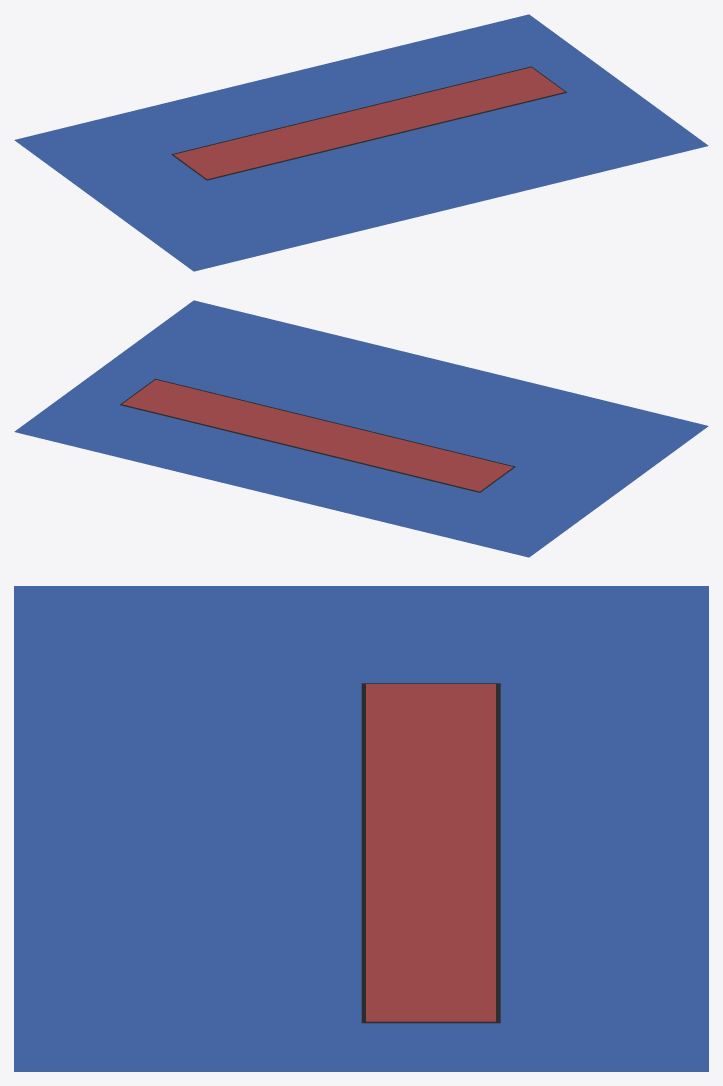
File: LobbyFloor.fbx
3 renders of one model, top to bottom at view 1: azimuth 30°, elevation 25°; view 2: azimuth 150°, elevation 25°; view 3: azimuth 270°, elevation 25°, orthographic. The views are drawn at different scales.
Visible parts, largest first — view 1: Floor1; view 2: Floor1; view 3: Floor1.
Boxes of the visible parts, bbox=[...] form: Floor1: bbox=[14, 14, 708, 271]; Floor1: bbox=[14, 300, 708, 557]; Floor1: bbox=[14, 586, 708, 1071].
Size of the model in its own units: 438 by 0.1962 by 265.
